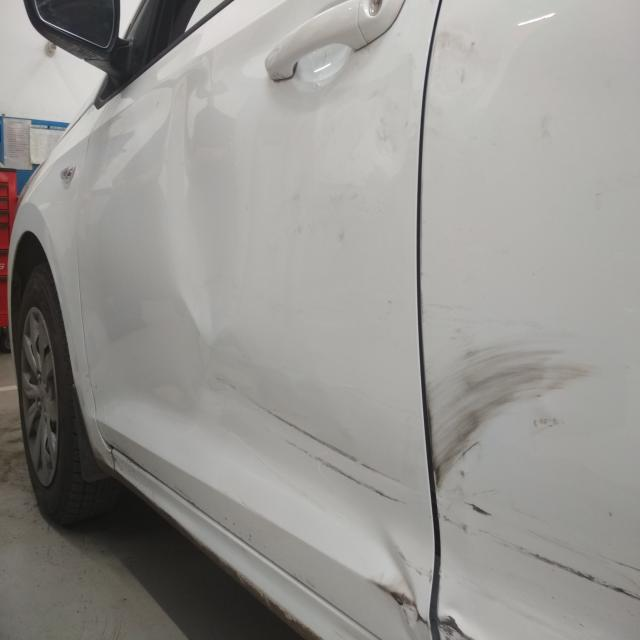Cabossage: (148, 66, 250, 356), (364, 566, 422, 634), (441, 604, 469, 640)
Rayure: (212, 367, 640, 604), (425, 334, 593, 478), (372, 573, 474, 637)
